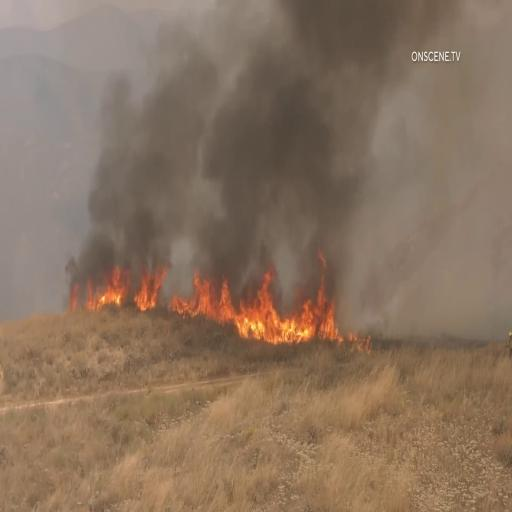fire: (66, 260, 372, 362)
smoke: (273, 6, 411, 262), (92, 50, 177, 264), (200, 30, 272, 265)
